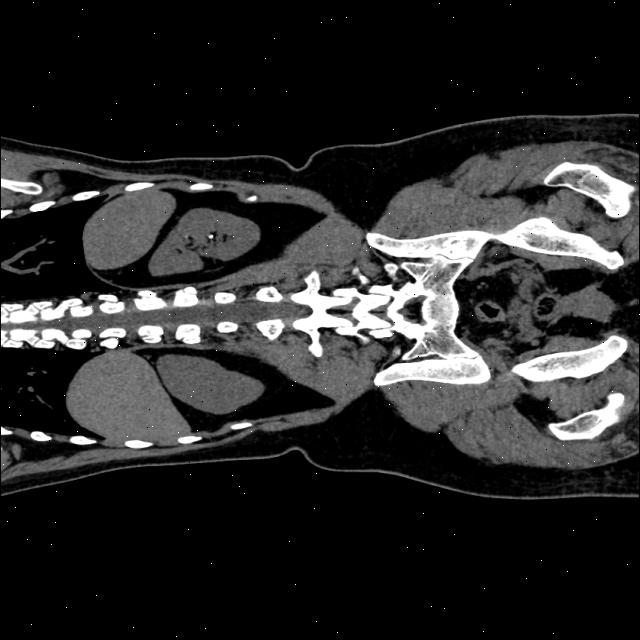kidneystone: (207, 231, 215, 238)
